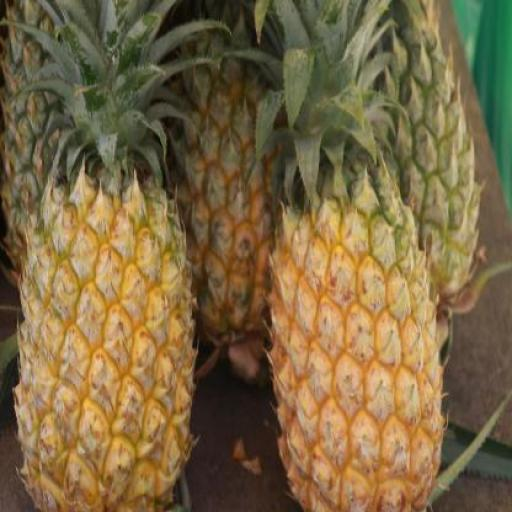Pineapple - v8 v1: (11, 176, 192, 511), (269, 179, 447, 511)
